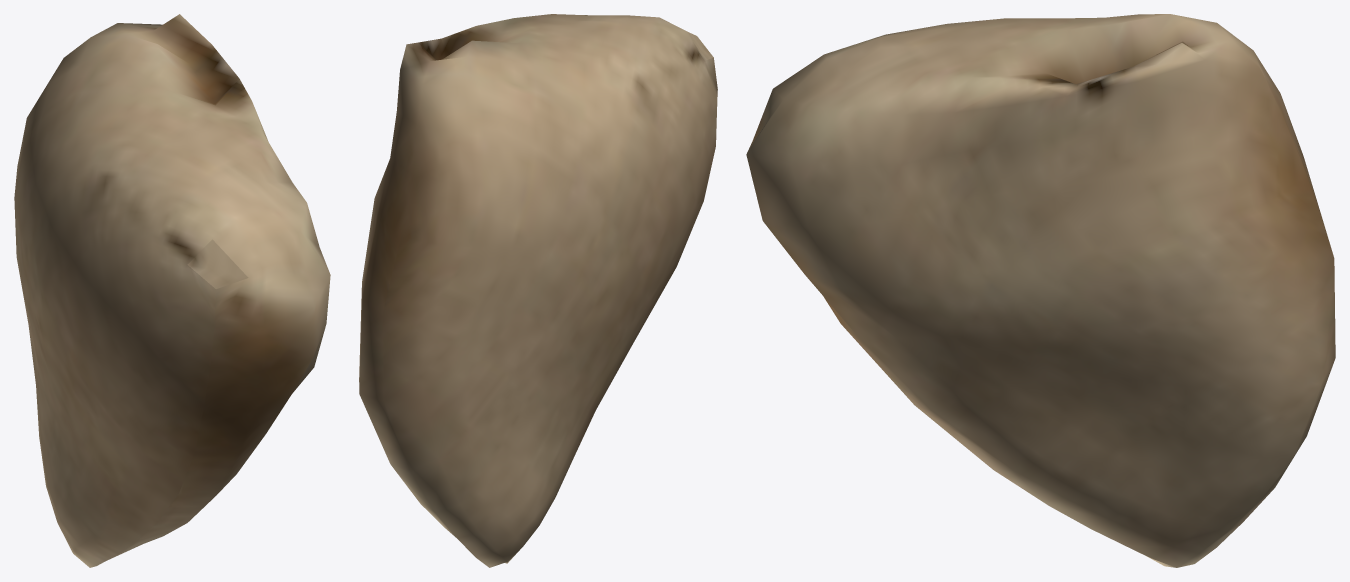
Rendered from Mandibular_Premolar5.glb.
3 views of the same model, side by side, from view 1: azimuth 30°, elevation 25°; view 2: azimuth 150°, elevation 25°; view 3: azimuth 270°, elevation 25° (orthographic). The views are drawn at different scales.
Visible parts, largest first — view 1: Premolar5; view 2: Premolar5; view 3: Premolar5.
Boxes of the visible parts, x1,y1,x2,y2 form: Premolar5: (14, 14, 330, 567); Premolar5: (359, 14, 717, 567); Premolar5: (746, 14, 1335, 567).
Size of the model in its own units: 0.0149 by 0.0345 by 0.032.
Materials: 1 (1 with a texture image).
